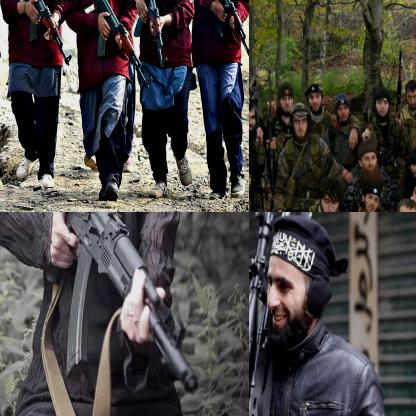rifle: (52, 212, 199, 400), (249, 212, 325, 415), (249, 212, 298, 395), (66, 0, 156, 90), (10, 0, 73, 68), (129, 0, 171, 73), (208, 0, 248, 61)
